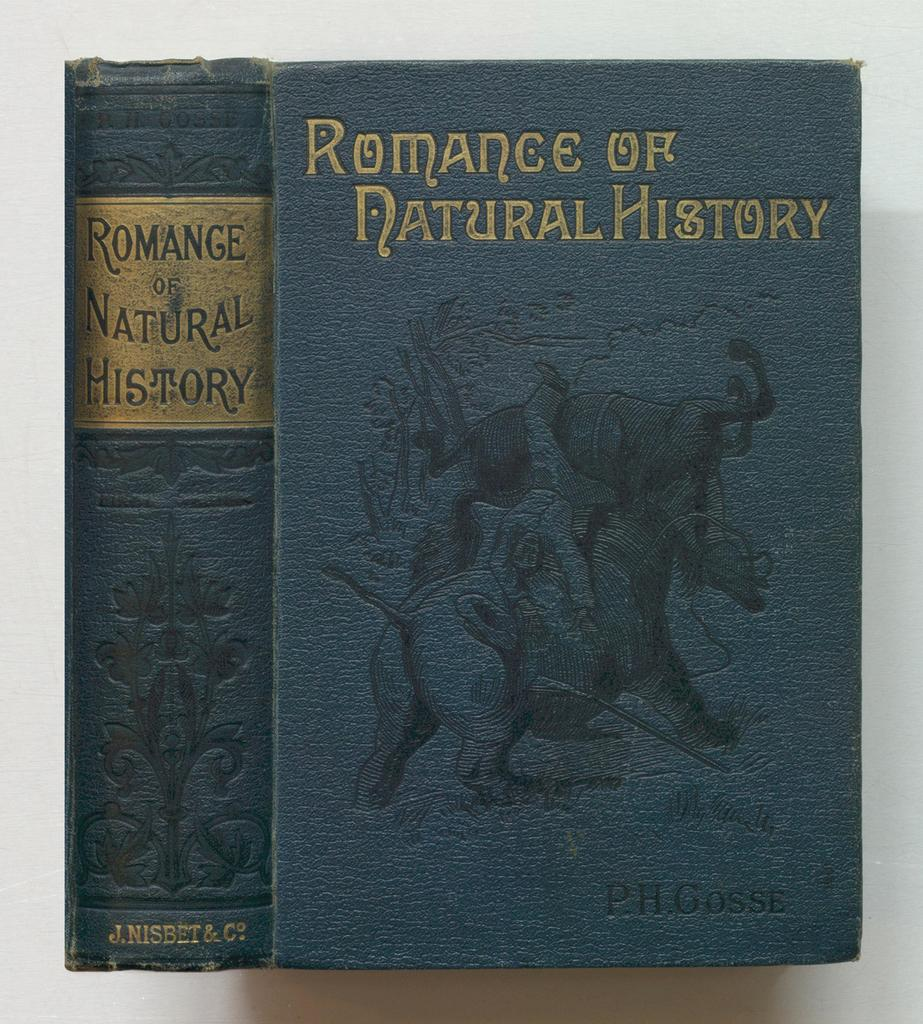book: (62, 59, 865, 969)
